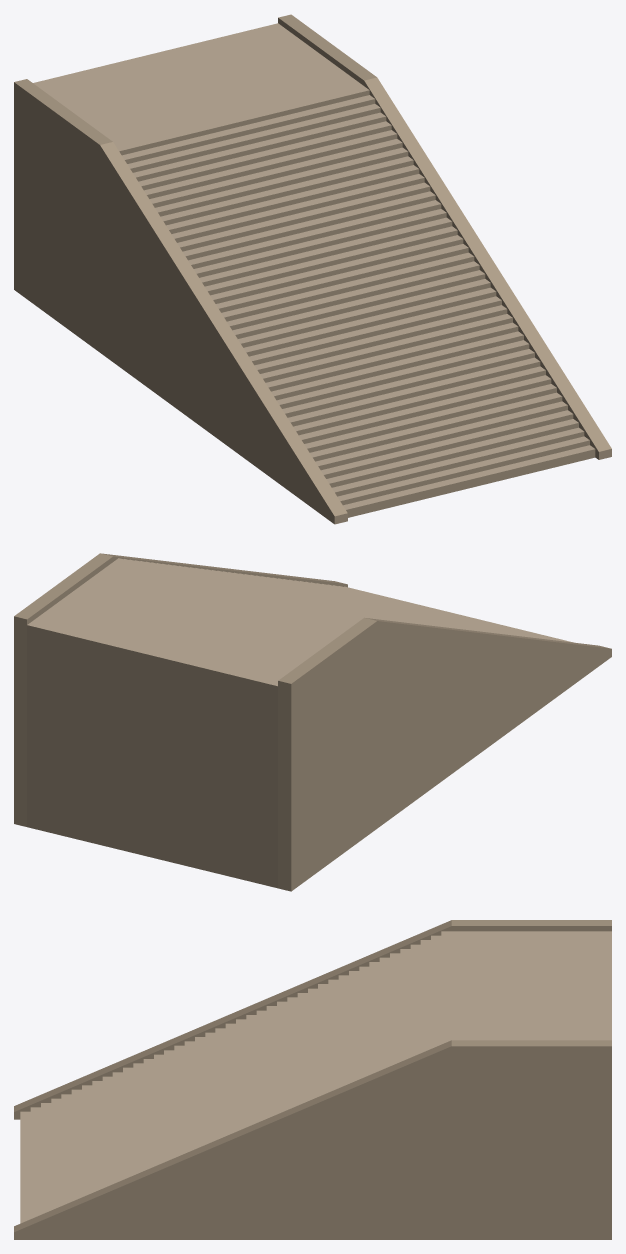
The model's file is entry-stairs-BE7u7f_t.glb.
The picture shows the model from 3 angles, top to bottom: view 1: azimuth 30°, elevation 25°; view 2: azimuth 150°, elevation 25°; view 3: azimuth 270°, elevation 25°; orthographic projection. The views are drawn at different scales.
Visible parts, largest first — view 1: Entry_Stairs_And_Landing, Entry_Left_Cheek, Entry_Right_Cheek; view 2: Entry_Stairs_And_Landing, Entry_Left_Cheek, Entry_Right_Cheek; view 3: Entry_Right_Cheek, Entry_Stairs_And_Landing, Entry_Left_Cheek.
Boxes of the visible parts, x1,y1,x2,y2 form: Entry_Stairs_And_Landing: (33,23,595,517); Entry_Left_Cheek: (14,79,347,524); Entry_Right_Cheek: (278,14,611,459); Entry_Stairs_And_Landing: (27,558,573,888); Entry_Left_Cheek: (278,617,611,891); Entry_Right_Cheek: (14,553,347,826); Entry_Right_Cheek: (14,1040,611,1239); Entry_Stairs_And_Landing: (20,931,611,1223); Entry_Left_Cheek: (14,920,611,1119).
Bounding box in the file's own units: 2.33 × 1.66 × 4.66.
